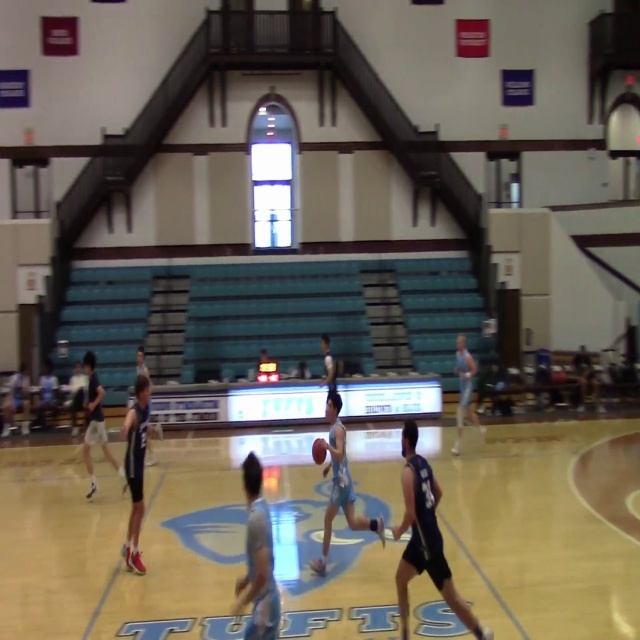Basketball: (311, 438, 327, 465)
